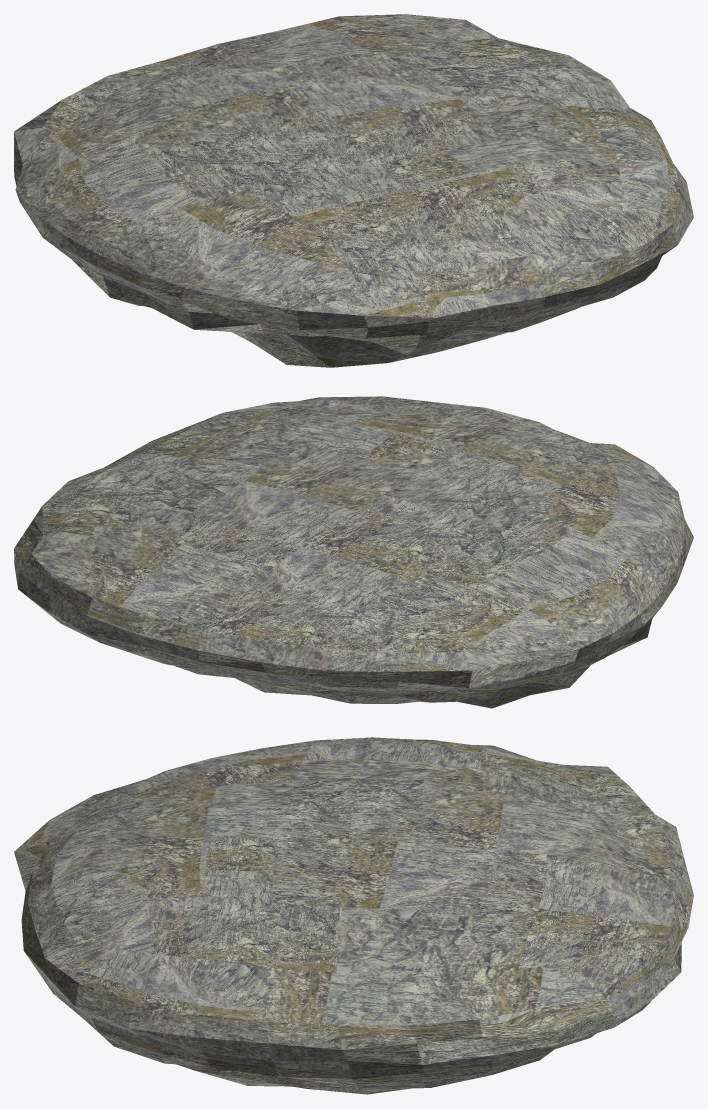
The model's file is CavePlatform.fbx.
3 views of the same model, one above another, from view 1: azimuth 30°, elevation 25°; view 2: azimuth 150°, elevation 25°; view 3: azimuth 270°, elevation 25° (orthographic). The views are drawn at different scales.
Parts seen in each view (by area): view 1: Cube.005, Cube.001, Cube.007, Cube.006, Cube.008, Cube.003, Cube.011, Cube.010, Cube.004, Cube.009, Cube, Cube.002; view 2: Cube.007, Cube.009, Cube.004, Cube.005, Cube.008, Cube.003, Cube.011, Cube.001, Cube.010, Cube.006, Cube; view 3: Cube.011, Cube.005, Cube, Cube.007, Cube.008, Cube.009, Cube.010, Cube.006, Cube.001, Cube.004, Cube.003.
Part boxes in pixels (x1,y1,x2,y2): Cube.005: [170, 135, 569, 362]; Cube.001: [96, 188, 361, 336]; Cube.007: [63, 44, 350, 179]; Cube.006: [491, 181, 677, 322]; Cube.008: [270, 47, 500, 162]; Cube.003: [15, 137, 199, 296]; Cube.011: [417, 20, 661, 138]; Cube.010: [379, 105, 621, 192]; Cube.004: [14, 83, 178, 189]; Cube.009: [218, 14, 476, 68]; Cube: [598, 112, 693, 262]; Cube.002: [114, 298, 420, 367]; Cube.007: [197, 494, 547, 703]; Cube.009: [18, 525, 272, 691]; Cube.004: [338, 574, 578, 708]; Cube.005: [347, 408, 677, 549]; Cube.008: [129, 444, 421, 567]; Cube.003: [476, 529, 662, 707]; Cube.011: [14, 435, 265, 587]; Cube.001: [531, 462, 693, 629]; Cube.010: [171, 406, 456, 472]; Cube.006: [298, 396, 485, 418]; Cube: [106, 397, 329, 466]; Cube.011: [266, 907, 614, 1094]; Cube.005: [14, 758, 363, 918]; Cube: [75, 948, 356, 1084]; Cube.007: [348, 758, 693, 894]; Cube.008: [272, 838, 549, 944]; Cube.009: [519, 855, 693, 1034]; Cube.010: [148, 837, 366, 1094]; Cube.006: [21, 866, 154, 1042]; Cube.001: [76, 740, 314, 814]; Cube.004: [480, 745, 629, 814]; Cube.003: [303, 737, 492, 769].
Size of the model in its own units: 449 by 134 by 439.
1 material, 1 textured.
